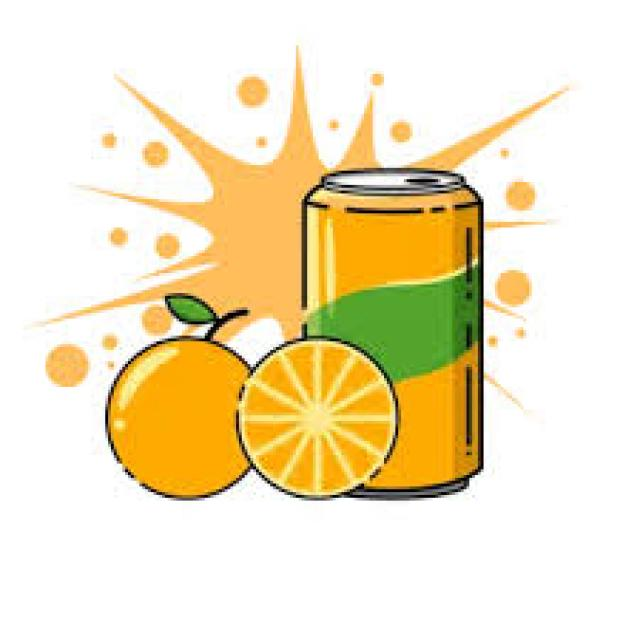Cans: (287, 160, 495, 503)
